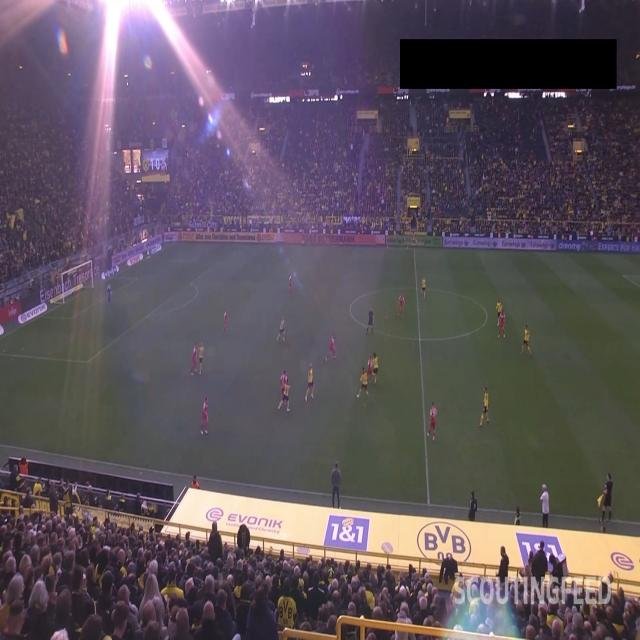f_player: (200, 398, 212, 439), (280, 379, 294, 414), (520, 324, 534, 356), (360, 365, 370, 408), (481, 388, 490, 432), (429, 399, 437, 443), (307, 363, 316, 402), (396, 291, 406, 322), (276, 316, 286, 345), (419, 274, 427, 302), (279, 365, 287, 393), (500, 311, 506, 344), (373, 353, 379, 386), (330, 332, 336, 365), (223, 308, 229, 336), (199, 342, 204, 374), (368, 354, 374, 380), (495, 300, 501, 324), (194, 342, 198, 377), (288, 272, 293, 298)
umpire: (599, 473, 615, 530), (366, 309, 374, 341)
